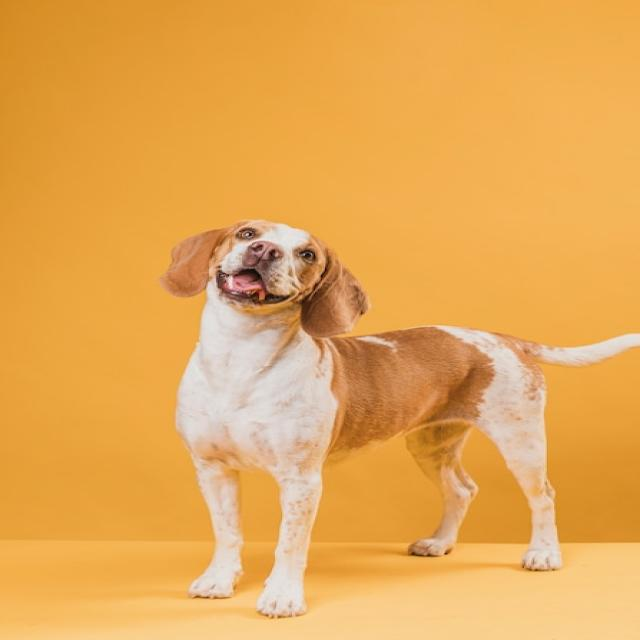Dog: (160, 218, 640, 617)
